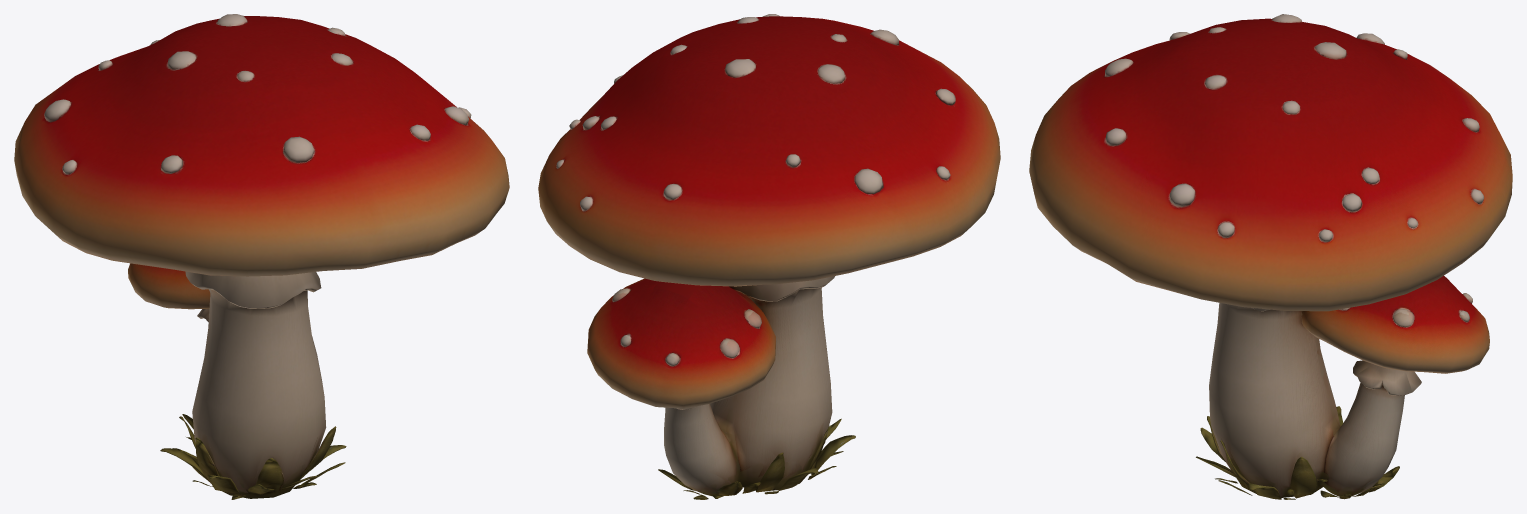
File: Mushroom.glb
3 renders of one model, left to right at view 1: azimuth 30°, elevation 25°; view 2: azimuth 150°, elevation 25°; view 3: azimuth 270°, elevation 25°, orthographic. The views are drawn at different scales.
Parts seen in each view (by area): view 1: tripo_node_c39028a4-62d0-4eed-b3d1-5a642c1b3e97; view 2: tripo_node_c39028a4-62d0-4eed-b3d1-5a642c1b3e97; view 3: tripo_node_c39028a4-62d0-4eed-b3d1-5a642c1b3e97.
Part boxes in pixels (bbox=[...]): tripo_node_c39028a4-62d0-4eed-b3d1-5a642c1b3e97: bbox=[14, 14, 509, 499]; tripo_node_c39028a4-62d0-4eed-b3d1-5a642c1b3e97: bbox=[538, 14, 1000, 499]; tripo_node_c39028a4-62d0-4eed-b3d1-5a642c1b3e97: bbox=[1029, 14, 1512, 499].
Bounding box in the file's own units: 0.9668 × 0.998 × 0.998.
Materials: 1 (1 with a texture image).
